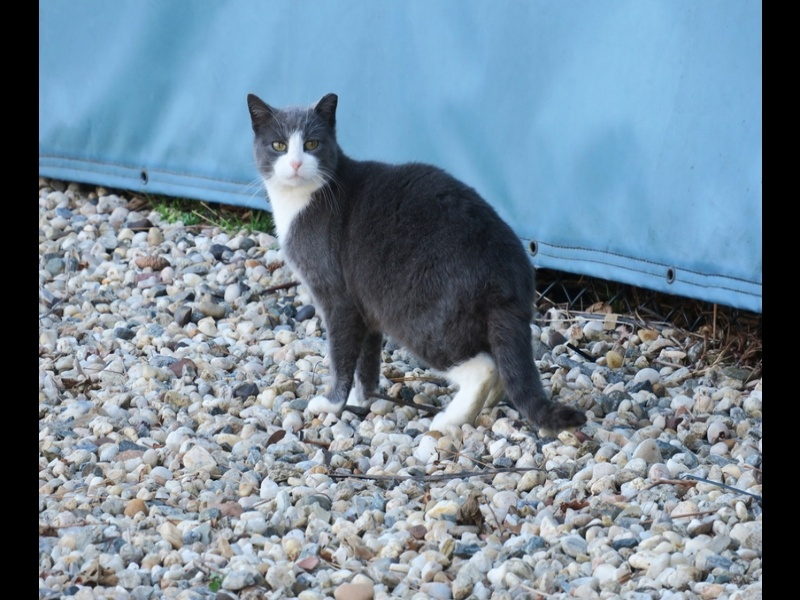cat: (243, 87, 588, 438)
